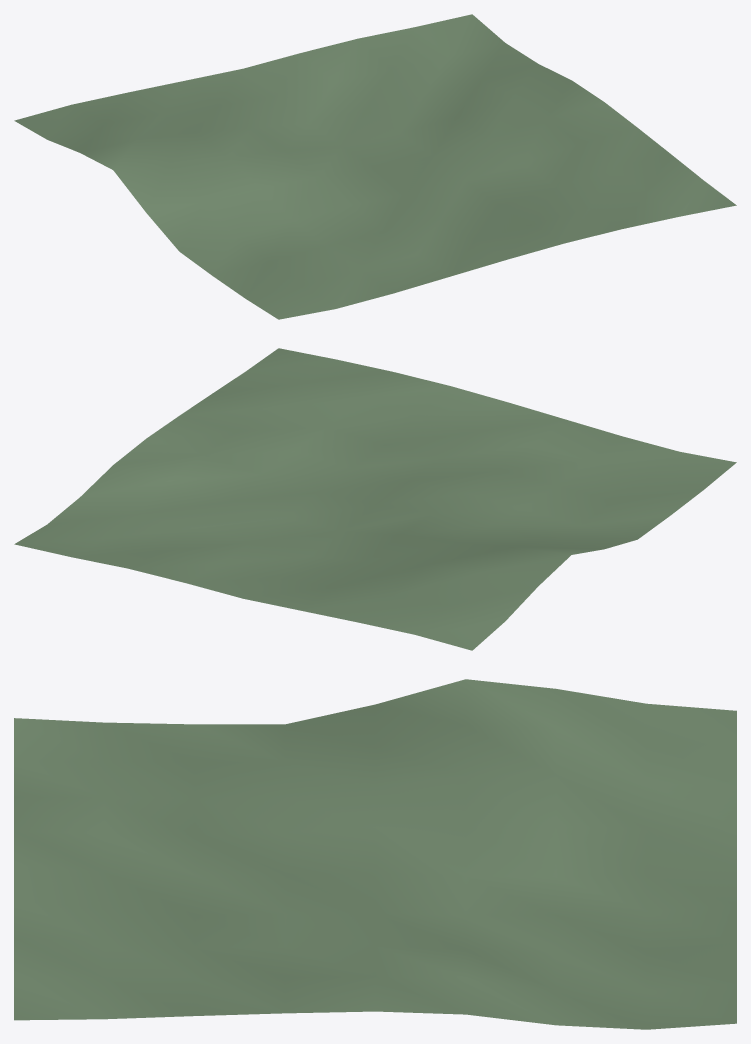
The picture shows the model from 3 angles, top to bottom: view 1: azimuth 30°, elevation 25°; view 2: azimuth 150°, elevation 25°; view 3: azimuth 270°, elevation 25°; orthographic projection. The views are drawn at different scales.
Parts seen in each view (by area): view 1: Lo; view 2: Lo; view 3: Lo.
Boxes of the visible parts, x1=… form: Lo: x1=14, y1=14, x2=736, y2=319; Lo: x1=14, y1=348, x2=736, y2=650; Lo: x1=14, y1=679, x2=736, y2=1029.
Bounding box in the file's own units: 256 × 17.65 × 256.
